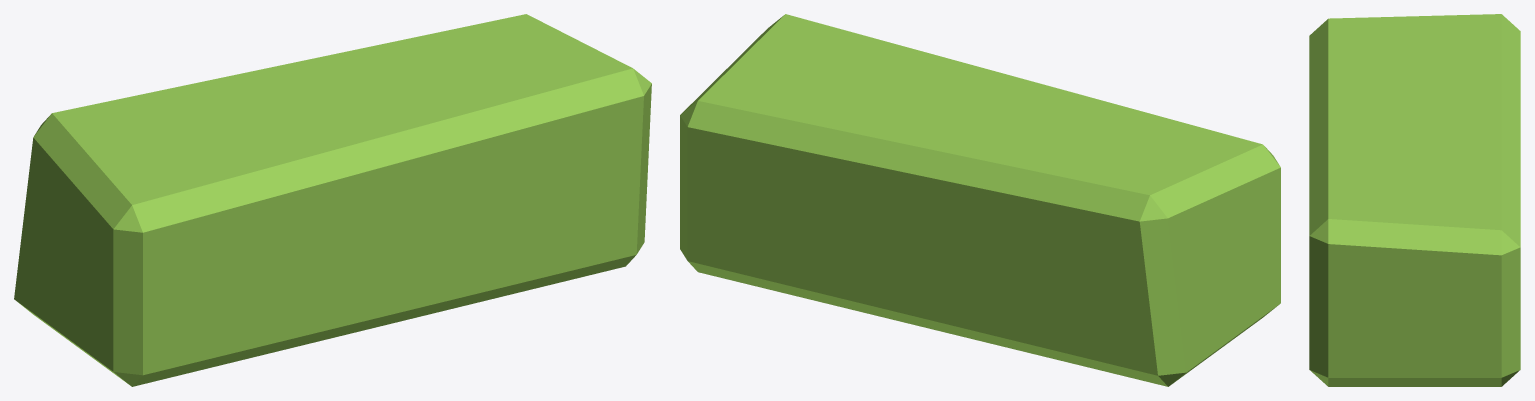
File: mesh_Brick_Single_v2.fbx
3 views of the same model, side by side, from view 1: azimuth 30°, elevation 25°; view 2: azimuth 150°, elevation 25°; view 3: azimuth 270°, elevation 25° (orthographic). The views are drawn at different scales.
Parts seen in each view (by area): view 1: mesh_Brick_Single_v2_0; view 2: mesh_Brick_Single_v2_0; view 3: mesh_Brick_Single_v2_0.
Part boxes in pixels (x1=…): mesh_Brick_Single_v2_0: x1=14, y1=14, x2=651, y2=386; mesh_Brick_Single_v2_0: x1=680, y1=14, x2=1280, y2=386; mesh_Brick_Single_v2_0: x1=1309, y1=14, x2=1520, y2=386.
Size of the model in its own units: 54.89 by 19.13 by 21.37.
